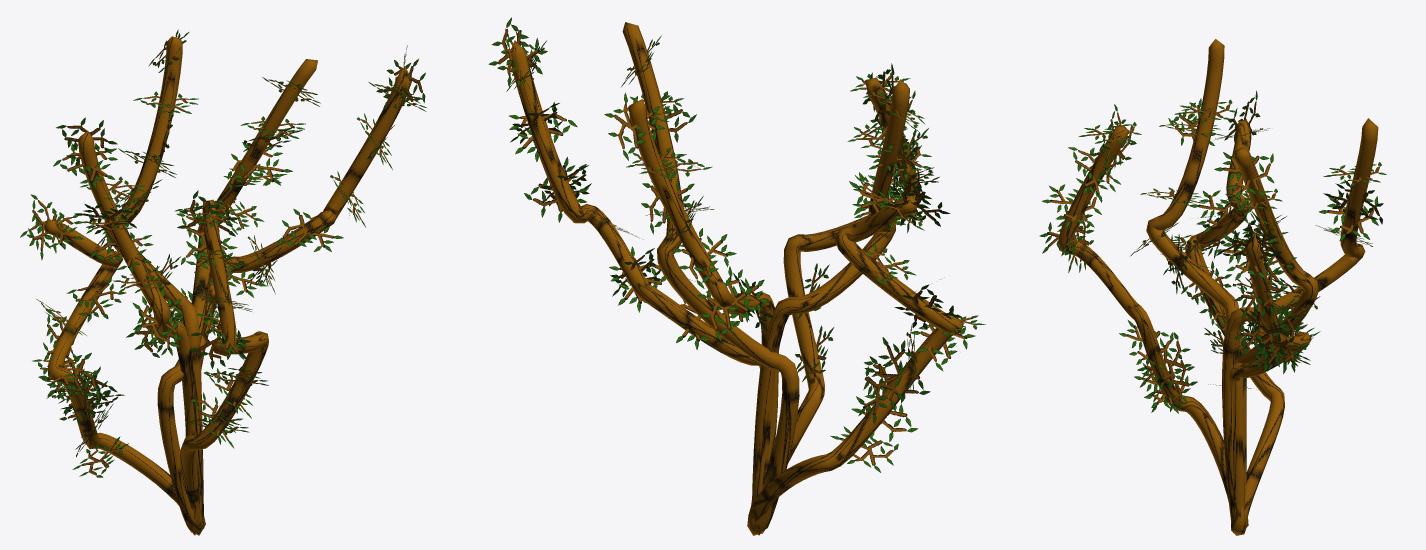
Rendered from tree2.obj.
3 views of the same model, side by side, from view 1: azimuth 30°, elevation 25°; view 2: azimuth 150°, elevation 25°; view 3: azimuth 270°, elevation 25° (orthographic). The views are drawn at different scales.
Parts seen in each view (by area): view 1: tree2; view 2: tree2; view 3: tree2.
Boxes of the visible parts, box(x1,y1,x2,y2) form: tree2: box(20, 29, 426, 535); tree2: box(488, 17, 985, 535); tree2: box(1039, 39, 1386, 535).
Size of the model in its own units: 15.04 by 15.53 by 11.77.
